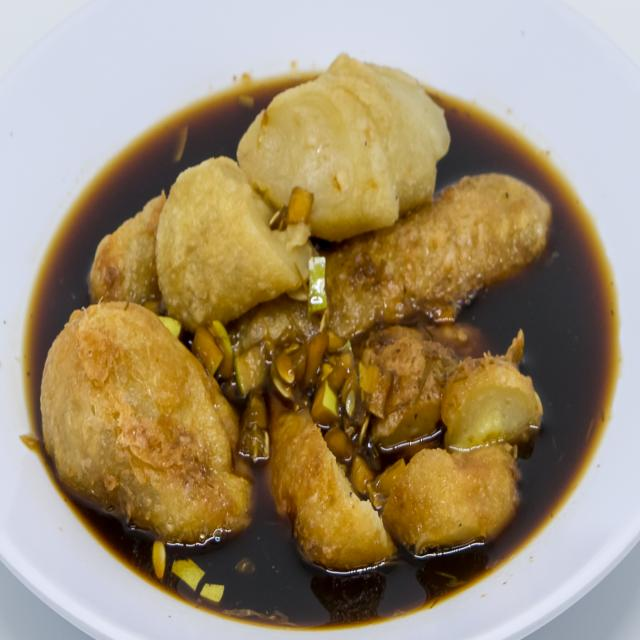Pempek-Palembang: (29, 33, 562, 587)
